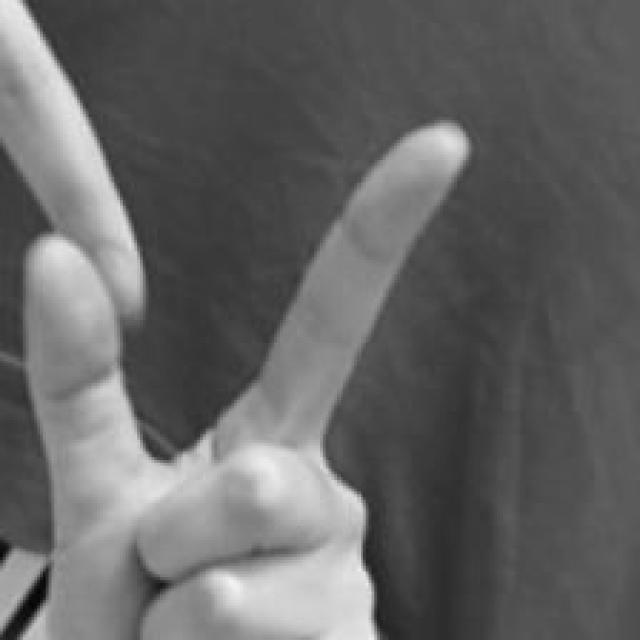J: (0, 0, 471, 640)
